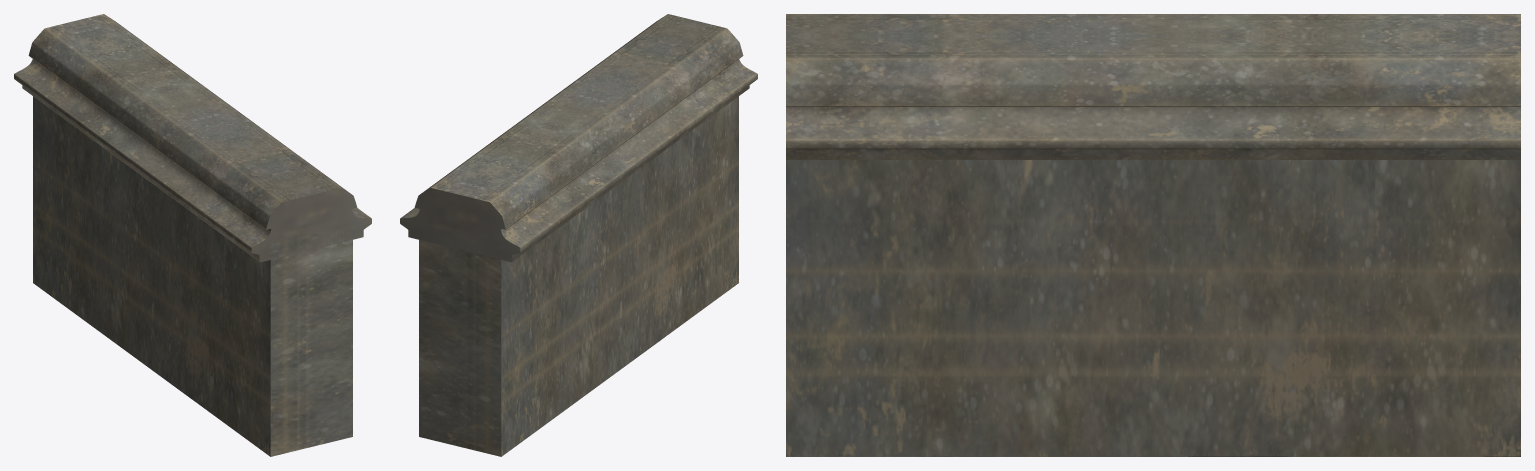
Rendered from SM_Fence01_1_LOD0.glb.
The picture shows the model from 3 angles, left to right: view 1: azimuth 30°, elevation 25°; view 2: azimuth 150°, elevation 25°; view 3: azimuth 270°, elevation 25°; orthographic projection. The views are drawn at different scales.
Visible parts, largest first — view 1: SM_Fence01_1_LOD0; view 2: SM_Fence01_1_LOD0; view 3: SM_Fence01_1_LOD0.
Boxes of the visible parts, <box> form: SM_Fence01_1_LOD0: <box>14,14,371,456</box>; SM_Fence01_1_LOD0: <box>400,14,757,456</box>; SM_Fence01_1_LOD0: <box>786,14,1520,456</box>.
Bounding box in the file's own units: 0.5848 × 1.17 × 2.
Materials: 1 (1 with a texture image).
